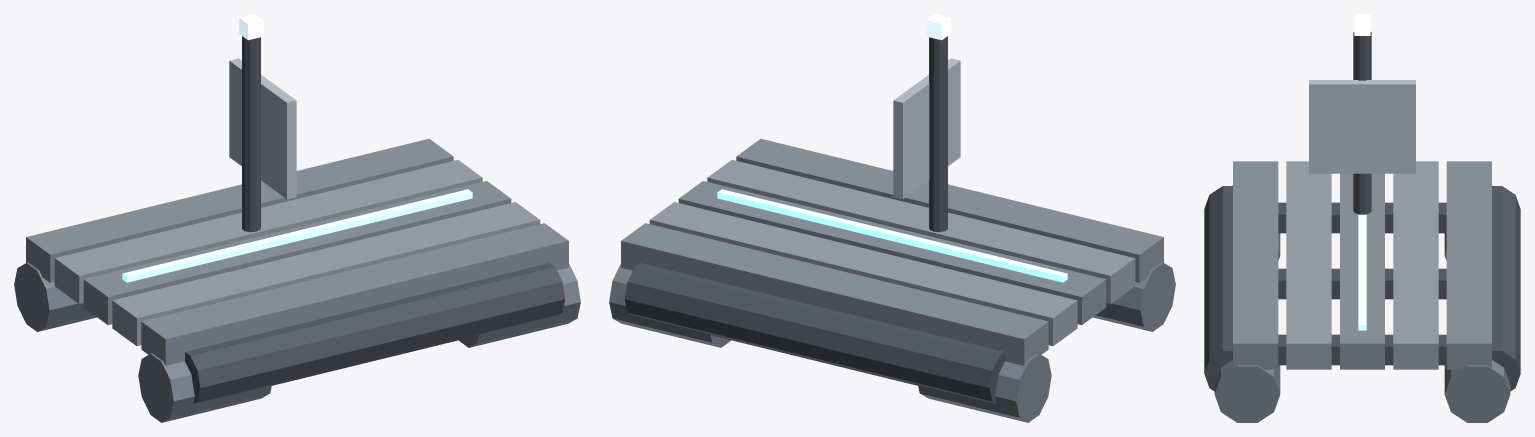
File: Phantom_Raft.fbx
3 views of the same model, side by side, from view 1: azimuth 30°, elevation 25°; view 2: azimuth 150°, elevation 25°; view 3: azimuth 270°, elevation 25° (orthographic). The views are drawn at different scales.
Visible parts, largest first — view 1: Phantom_Raft; view 2: Phantom_Raft; view 3: Phantom_Raft.
Part boxes in pixels (left/top/right/bottom): Phantom_Raft: left=14, top=14, right=580, bottom=422; Phantom_Raft: left=609, top=14, right=1175, bottom=422; Phantom_Raft: left=1204, top=14, right=1520, bottom=422.
Bounding box in the file's own units: 1.06 × 0.7861 × 0.77.
